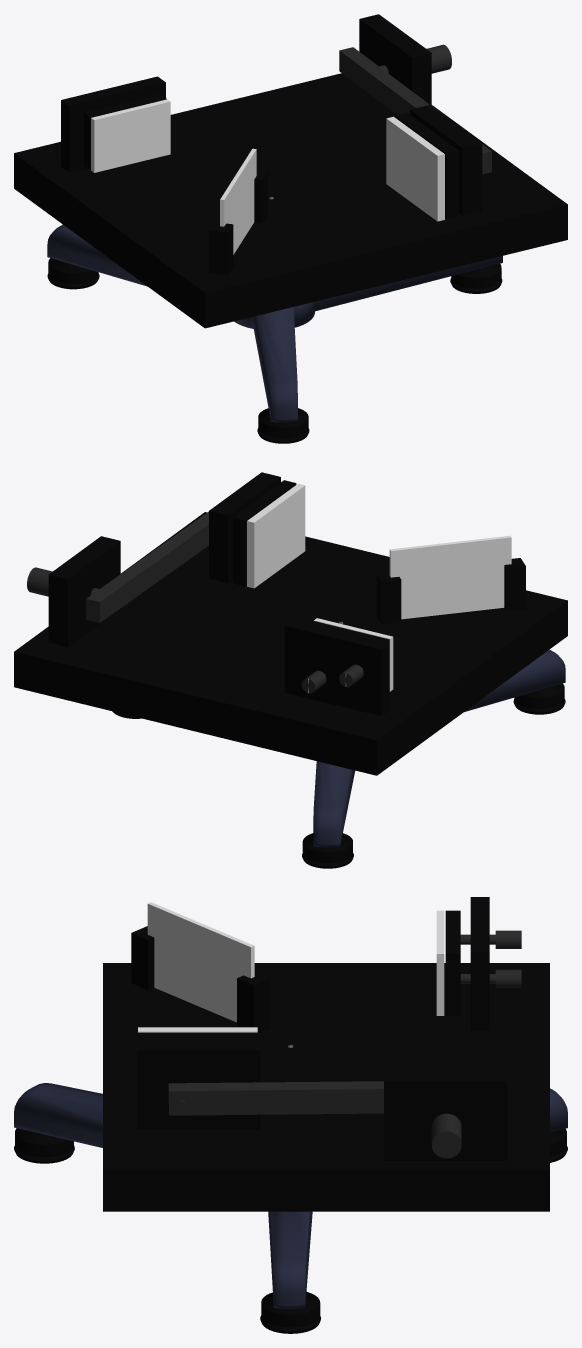
File: Interferometro.fbx
3 renders of one model, top to bottom at view 1: azimuth 30°, elevation 25°; view 2: azimuth 150°, elevation 25°; view 3: azimuth 270°, elevation 25°, orthographic. The views are drawn at different scales.
Parts seen in each view (by area): view 1: TornilloV; view 2: TornilloV; view 3: TornilloV.
Part boxes in pixels (left/top/right/bottom): TornilloV: left=14, top=14, right=567, bottom=443; TornilloV: left=14, top=472, right=567, bottom=868; TornilloV: left=14, top=897, right=567, bottom=1333.
Size of the model in its own units: 106 by 53.43 by 112.
